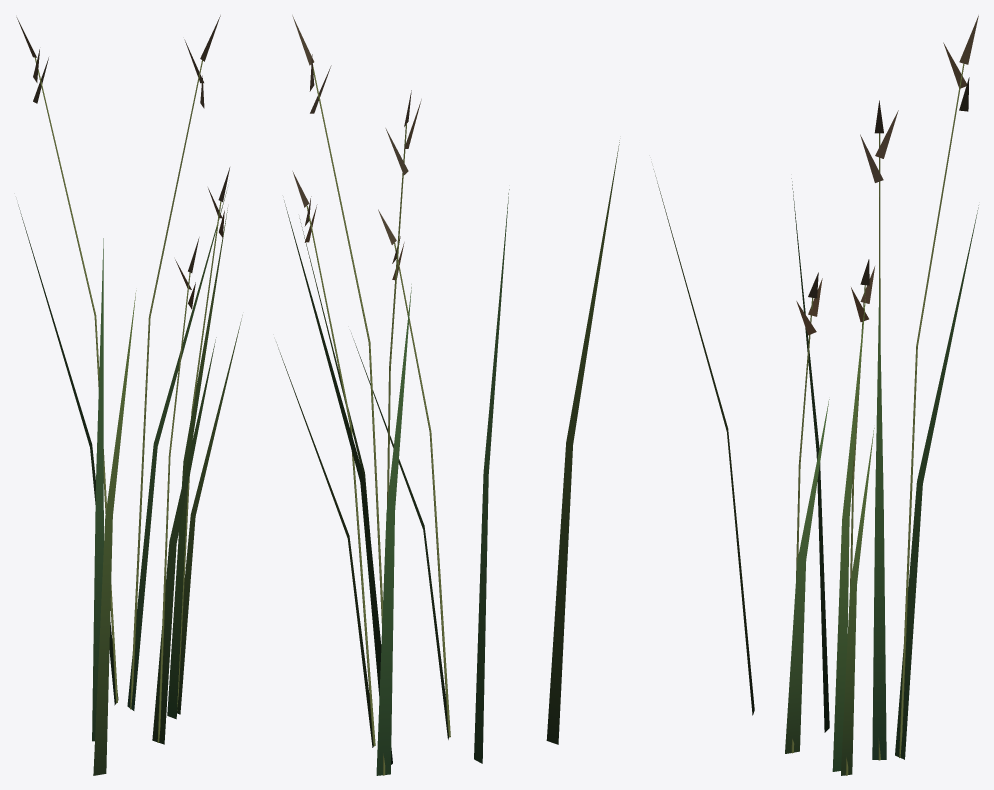
Rendered from sedge-b.lod1.glb.
The picture shows the model from 3 angles, left to right: view 1: azimuth 30°, elevation 25°; view 2: azimuth 150°, elevation 25°; view 3: azimuth 270°, elevation 25°; orthographic projection. The views are drawn at different scales.
Parts seen in each view (by area): view 1: sedge-b.lod1; view 2: sedge-b.lod1; view 3: sedge-b.lod1.
Boxes of the visible parts, left/top/right/bottom form: sedge-b.lod1: left=16, top=15, right=242, bottom=775; sedge-b.lod1: left=276, top=15, right=619, bottom=775; sedge-b.lod1: left=653, top=15, right=978, bottom=775.
Size of the model in its own units: 0.3295 by 0.9944 by 0.4193.
